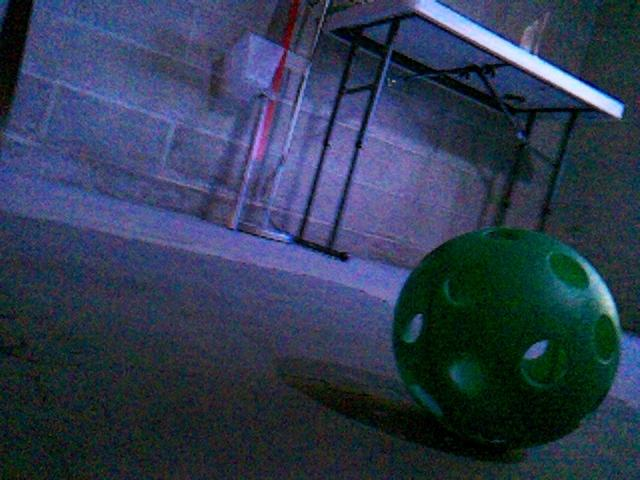Green: (389, 226, 624, 450)
